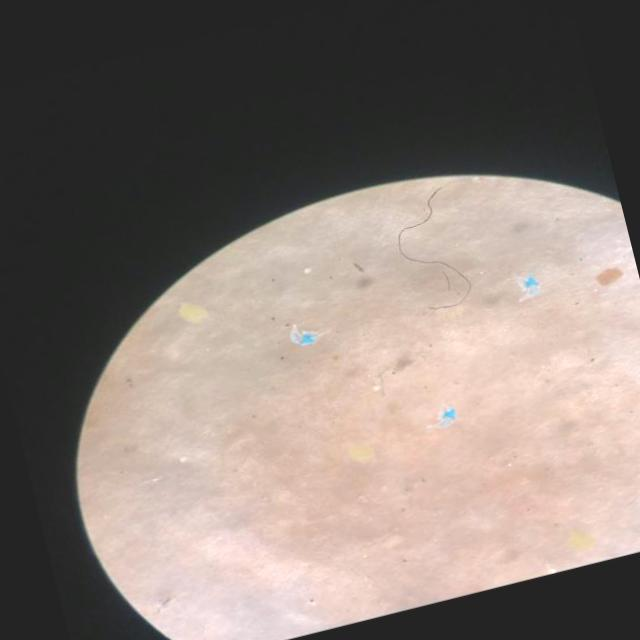fiber: (396, 187, 471, 308)
film: (522, 277, 537, 296)
fragment: (179, 302, 206, 322), (567, 531, 594, 551), (596, 266, 622, 286)
pellet: (347, 444, 373, 462), (373, 385, 379, 391), (303, 267, 309, 272), (179, 457, 185, 461)
